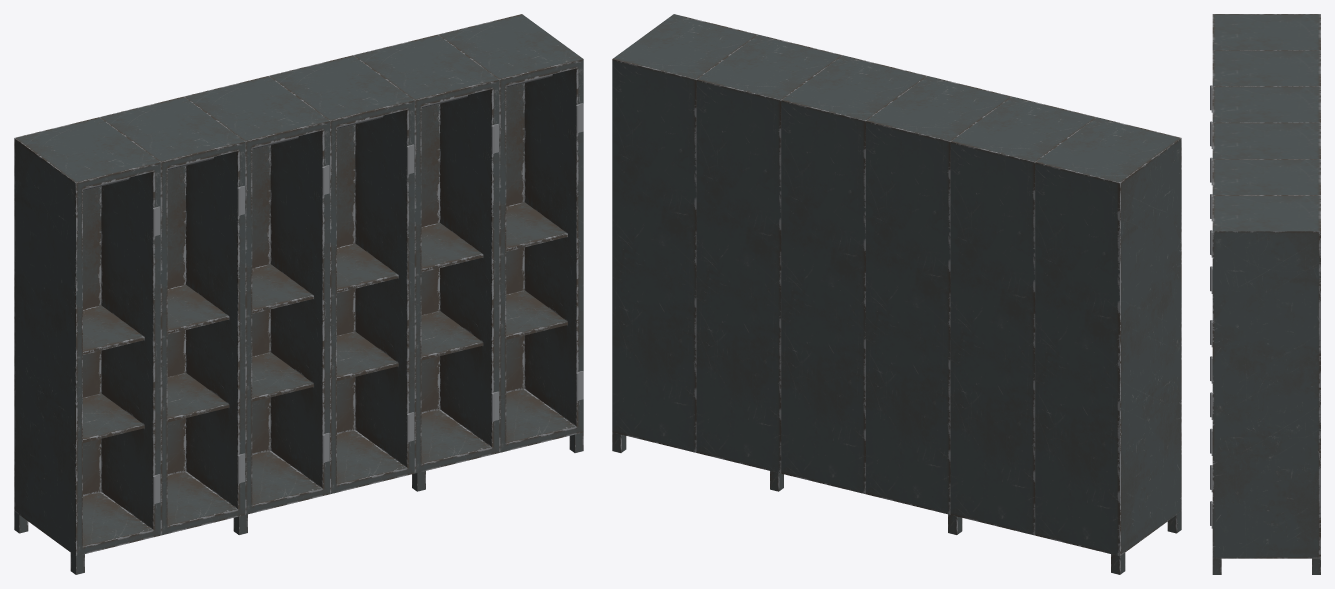
The model's file is SM_Locker_02_B.fbx.
3 renders of one model, left to right at view 1: azimuth 30°, elevation 25°; view 2: azimuth 150°, elevation 25°; view 3: azimuth 270°, elevation 25°, orthographic. The views are drawn at different scales.
Visible parts, largest first — view 1: SM_Locker_02_B; view 2: SM_Locker_02_B; view 3: SM_Locker_02_B.
Part boxes in pixels (left/top/right/bottom): SM_Locker_02_B: left=14, top=14, right=583, bottom=574; SM_Locker_02_B: left=612, top=14, right=1181, bottom=574; SM_Locker_02_B: left=1210, top=14, right=1320, bottom=574.
Bounding box in the file's own units: 313 × 67.55 × 231.
1 material, 1 textured.
